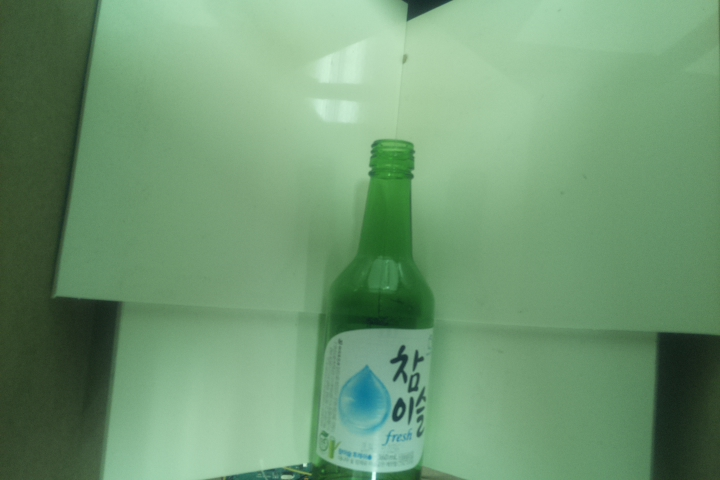soju: (314, 137, 438, 480)
